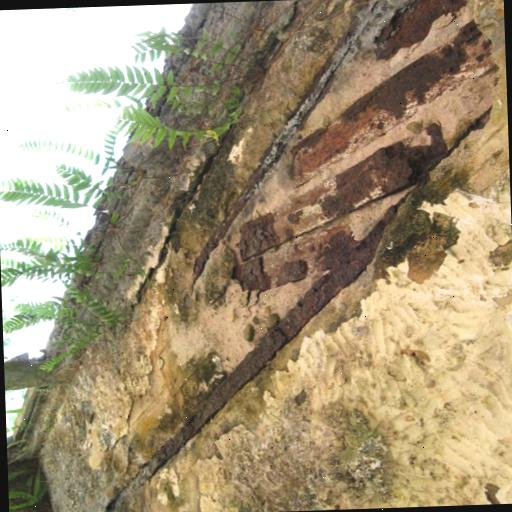spalling: (128, 0, 504, 501)
